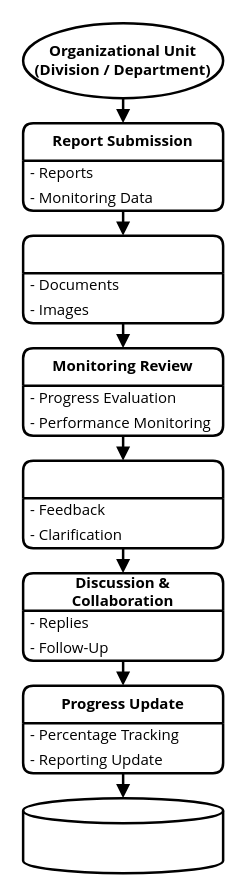
Some shapes in this 245 by 895 pixel diagram are drawn without their labels. The shapes that lost their labels are listed below. From the top down, each one's box as (x1, y1, x2, y2) in pixels, then its label:
(21, 234, 224, 324): Supporting Evidence Upload
(21, 459, 224, 549): Supervisor Response
(21, 796, 224, 874): Archive & Reporting History
